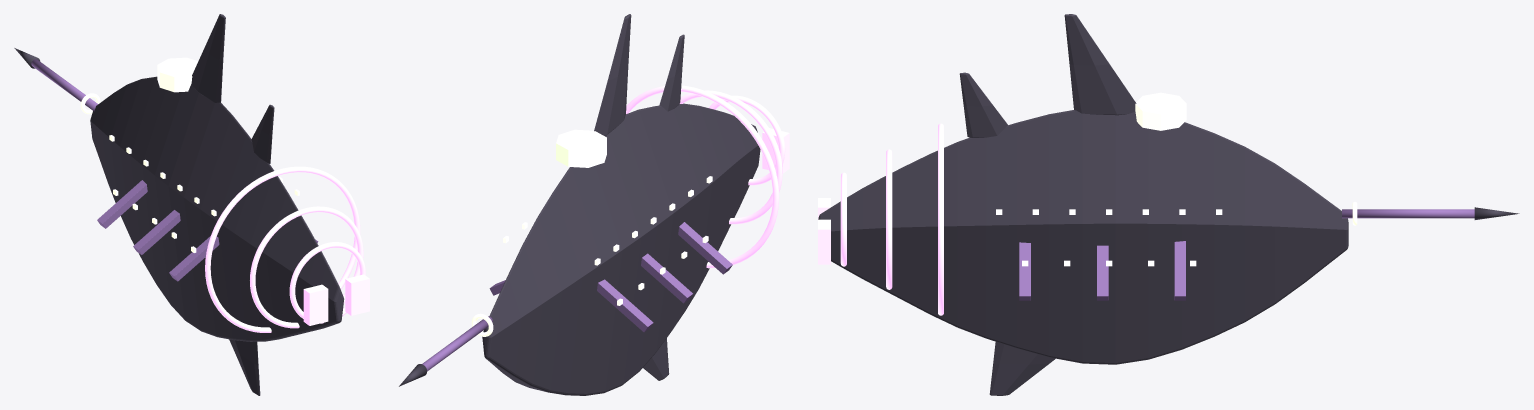
File: ezrathi.glb
3 renders of one model, left to right at view 1: azimuth 30°, elevation 25°; view 2: azimuth 150°, elevation 25°; view 3: azimuth 270°, elevation 25°, orthographic. The views are drawn at different scales.
Visible parts, largest first — view 1: hull, Torus.001, fin, Torus.002, Cylinder.001, Cube.030, fin.002, Cube.031, Torus.003, fin.001, Cube, Cube.002 (+2 smaller); view 2: hull, fin, Torus.001, Cylinder.001, Torus.002, fin.001, Cube, Cube.004, Cube.002, Torus.003, Cylinder, fin.002 (+1 smaller); view 3: hull, fin, fin.002, fin.001, Cylinder.001, Cylinder, Torus.001, Torus.002, Cube.001, Cube.005, Cube.003, Torus.003.
Part boxes in pixels (box(x1,y1,x2,y2)): hull: box(90, 76, 344, 341); Torus.001: box(205, 166, 360, 332); fin: box(191, 14, 225, 102); Torus.002: box(250, 206, 363, 328); Cylinder.001: box(157, 57, 198, 92); Cube.030: box(303, 284, 328, 325); fin.002: box(229, 339, 260, 395); Cube.031: box(345, 274, 369, 315); Torus.003: box(289, 242, 365, 323); fin.001: box(251, 104, 274, 163); Cube: box(97, 180, 147, 228); Cube.002: box(133, 210, 180, 254); hull: box(482, 103, 760, 395); fin: box(594, 14, 631, 135); Torus.001: box(626, 85, 779, 268); Cylinder.001: box(556, 129, 606, 167); Torus.002: box(679, 90, 782, 224); fin.001: box(659, 34, 684, 111); Cube: box(597, 279, 653, 332); Cube.004: box(678, 222, 732, 274); Cube.002: box(641, 253, 692, 303); Torus.003: box(709, 95, 785, 185); Cylinder: box(422, 316, 492, 370); fin.002: box(643, 338, 669, 380); hull: box(818, 110, 1348, 364); fin: box(1064, 14, 1136, 115); fin.002: box(989, 342, 1055, 395); fin.001: box(959, 72, 1008, 137); Cylinder.001: box(1135, 92, 1186, 130); Cylinder: box(1342, 209, 1474, 218); Torus.001: box(938, 123, 943, 315); Torus.002: box(886, 149, 892, 289); Cube.001: box(1174, 241, 1185, 300); Cube.005: box(1019, 242, 1030, 300); Cube.003: box(1097, 245, 1108, 300); Torus.003: box(840, 172, 846, 266).
Size of the model in its own units: 1.49 by 3.25 by 5.43.
